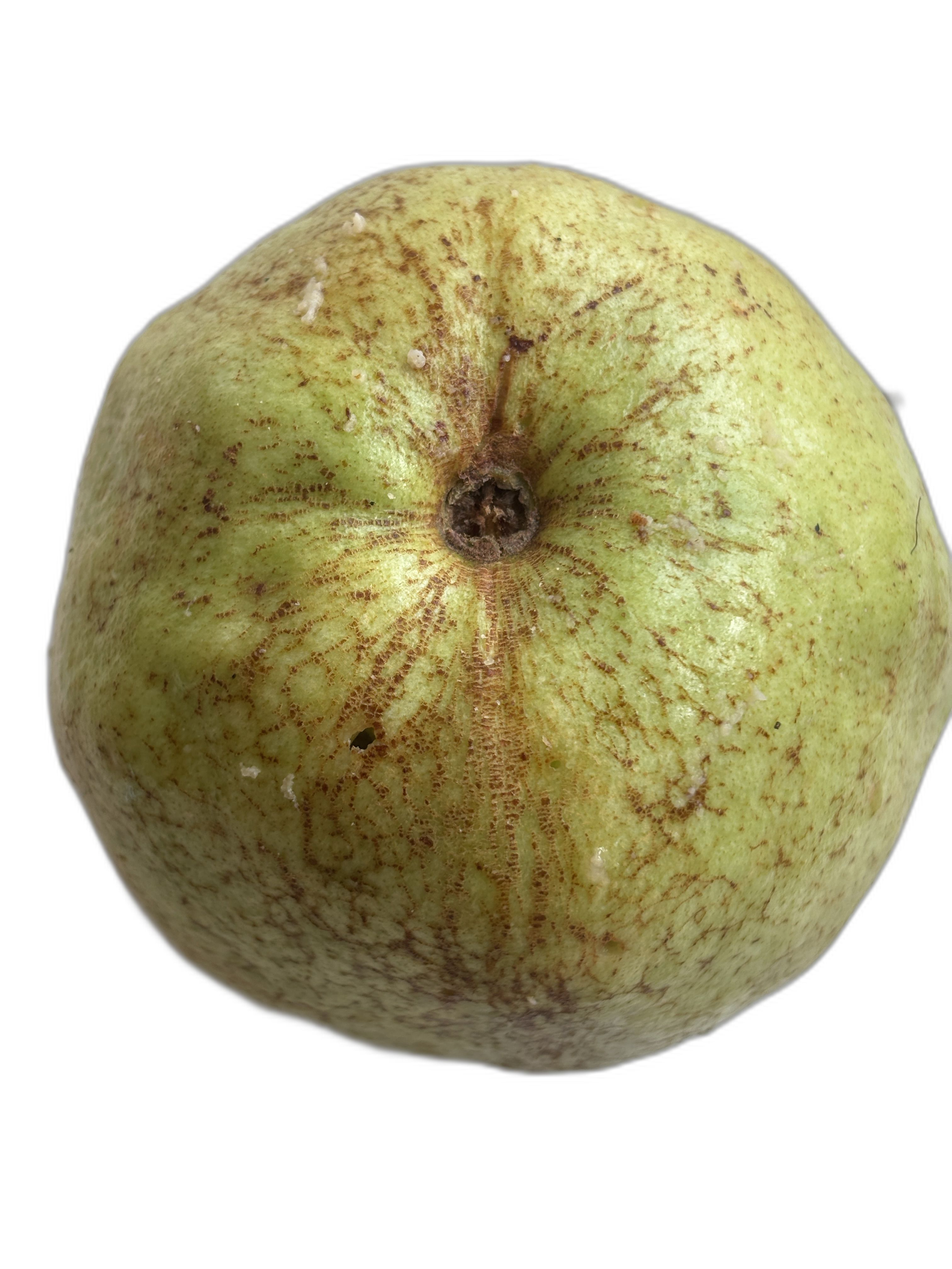guava: (107, 180, 830, 990)
